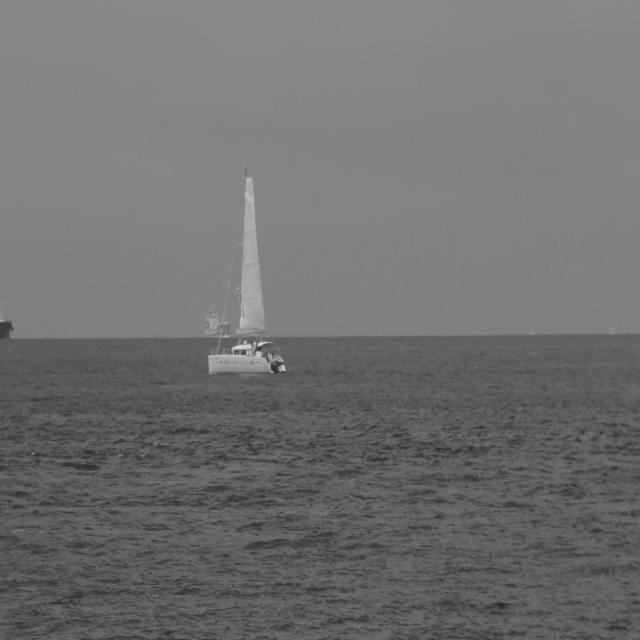ship: (210, 166, 290, 378), (203, 306, 231, 341), (0, 299, 10, 355)
